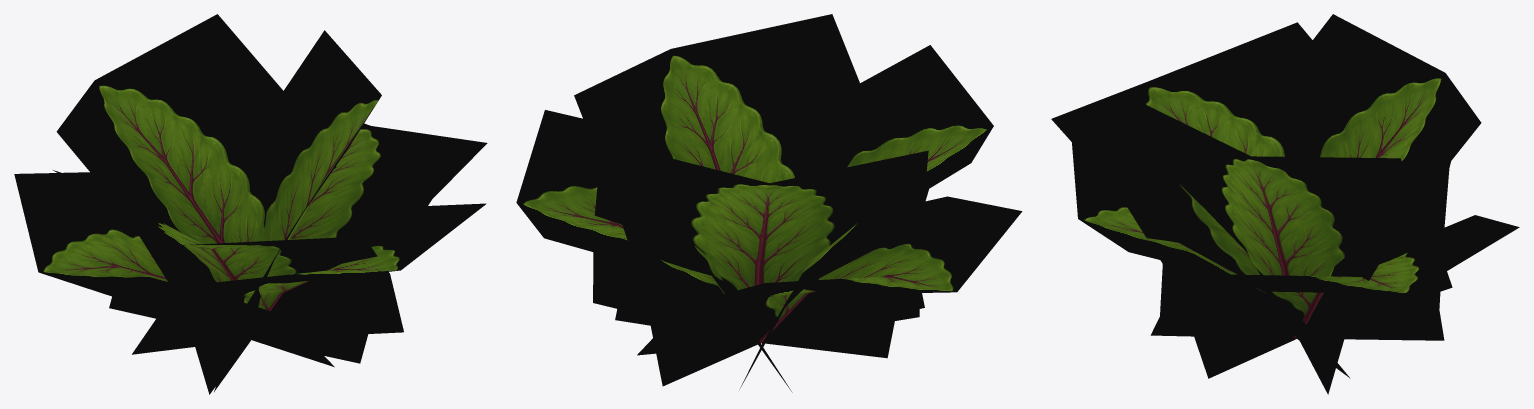
The model's file is BeetPlant02.fbx.
3 views of the same model, side by side, from view 1: azimuth 30°, elevation 25°; view 2: azimuth 150°, elevation 25°; view 3: azimuth 270°, elevation 25° (orthographic). The views are drawn at different scales.
Parts seen in each view (by area): view 1: BeetPlant02_LOD0; view 2: BeetPlant02_LOD0; view 3: BeetPlant02_LOD0.
Boxes of the visible parts, x1,y1,x2,y2 form: BeetPlant02_LOD0: (14, 14, 487, 394); BeetPlant02_LOD0: (516, 14, 1022, 392); BeetPlant02_LOD0: (1051, 14, 1519, 394).
Size of what is drawn, in the model's own units: 0.4581 by 0.2582 by 0.4423.
